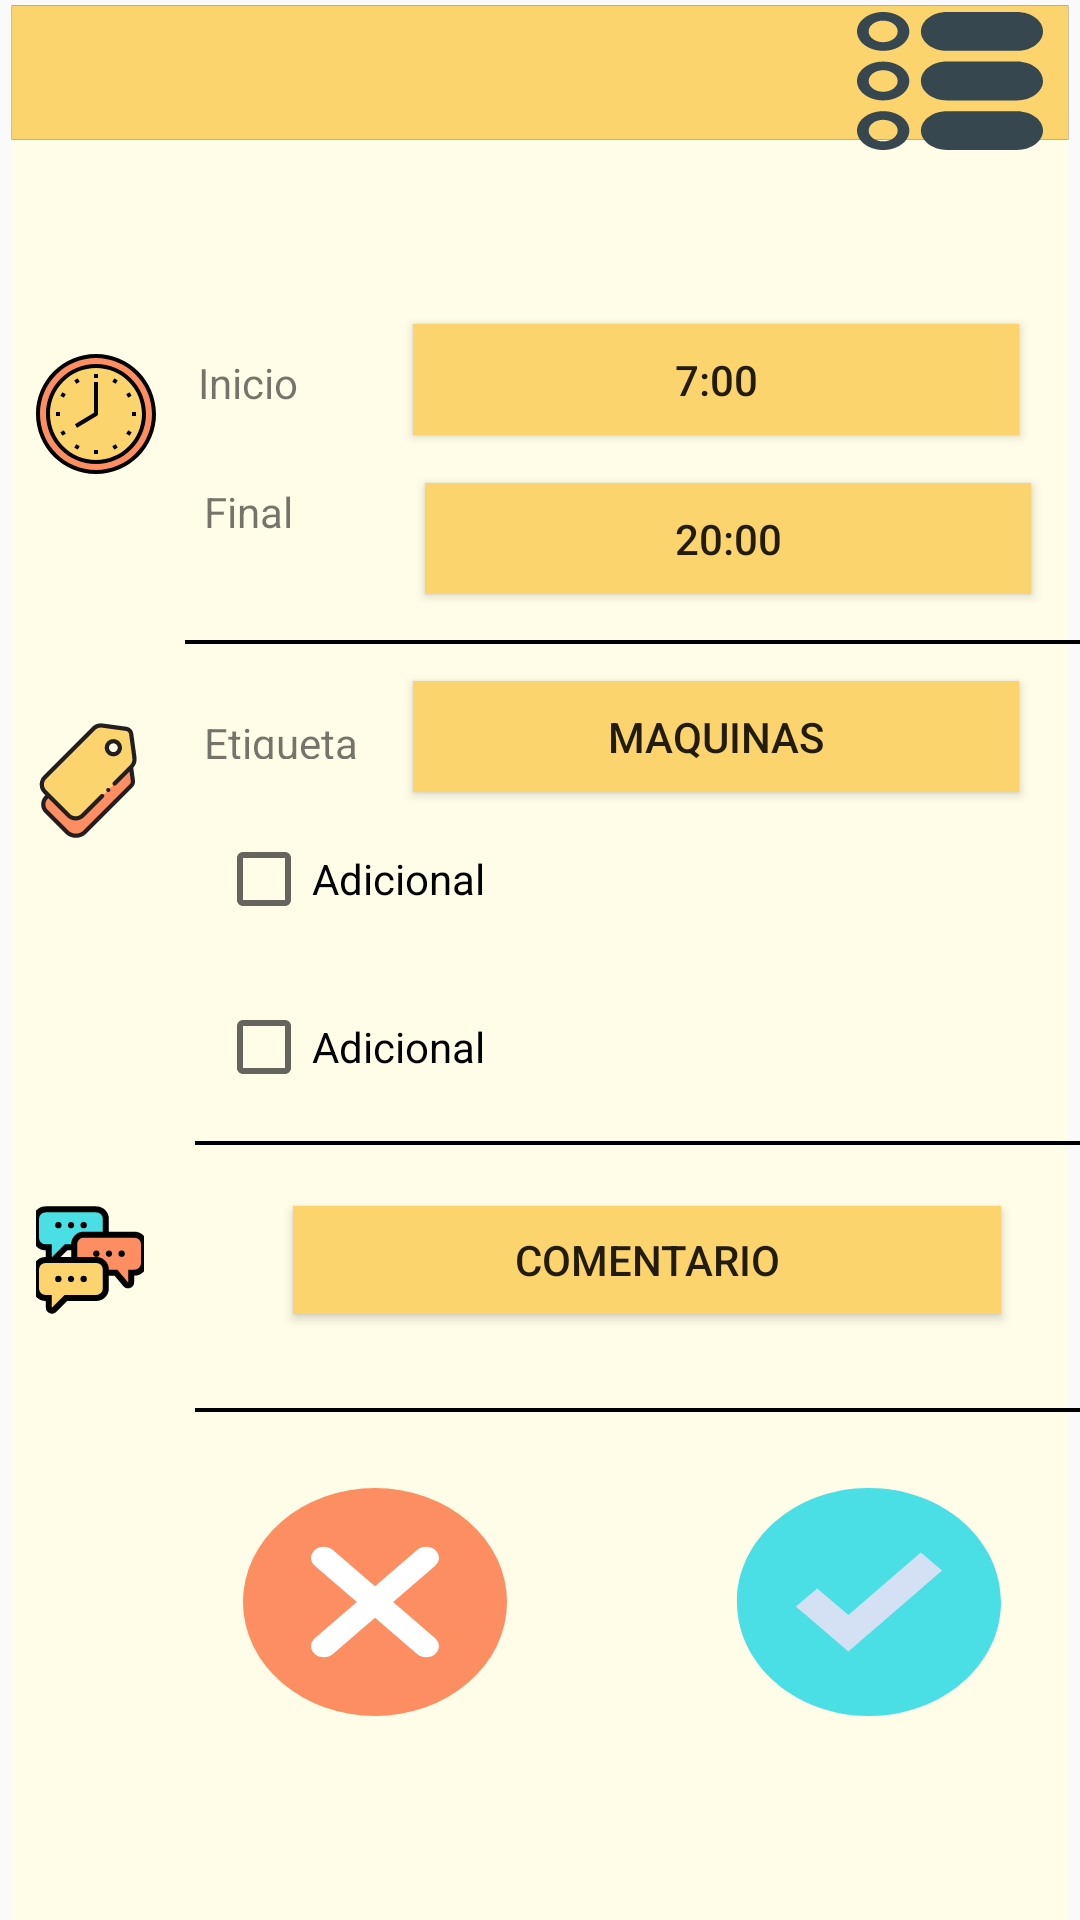

Icon bounding boxes for this 1080 x 1920 phone screenshot, format (x1, y1, x2, y2):
btncancel: (243, 1488, 507, 1716)
btncheck: (737, 1488, 1001, 1716)
imgreloj: (36, 354, 156, 474)
